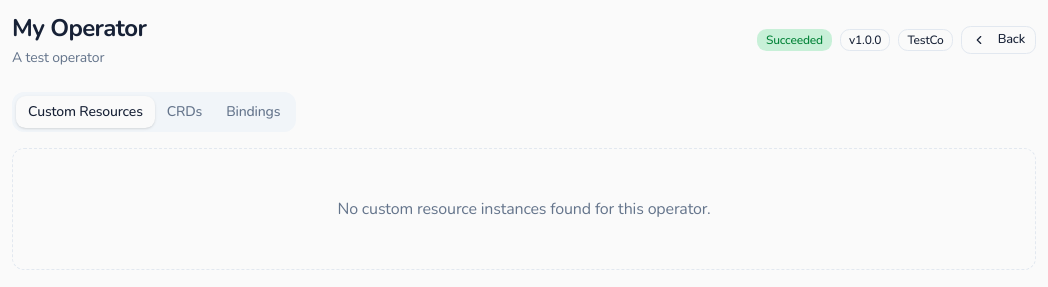
Test: OperatorDetailClient › displays owned CRDs from the operator info
Expected: the heading "My Operator" is shown, [12,12,146,44]
// Click the CRDs tab to reveal its content
Click the tab "CRDs". click: (185, 112)
box: [155,96,214,128]
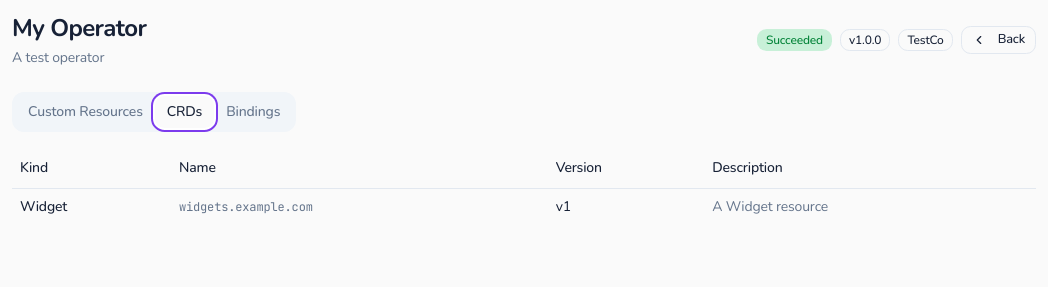
Result: the text "Widget" is shown at [12,188,171,224]
Result: the text "widgets.example.com" is shown at [171,188,548,224]
